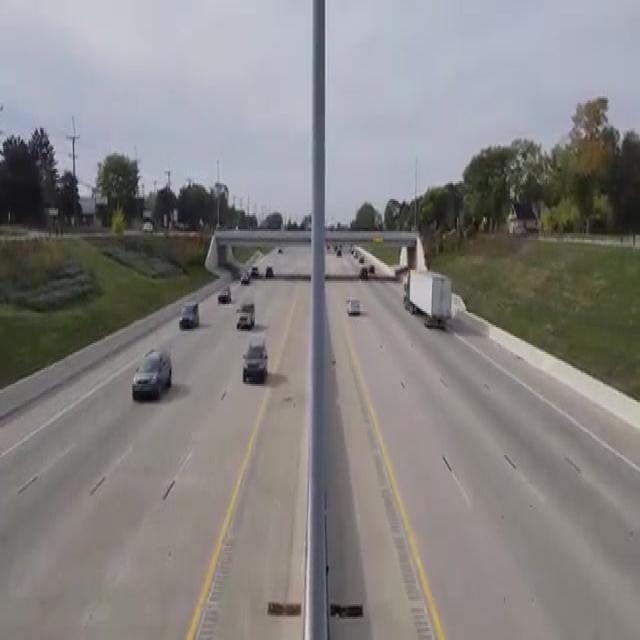car: (128, 338, 198, 417), (238, 335, 272, 405), (174, 298, 210, 330), (344, 288, 370, 329), (232, 298, 263, 330), (216, 276, 228, 312), (263, 262, 275, 288), (352, 265, 374, 278), (238, 269, 251, 282)
truck: (397, 256, 462, 348)
